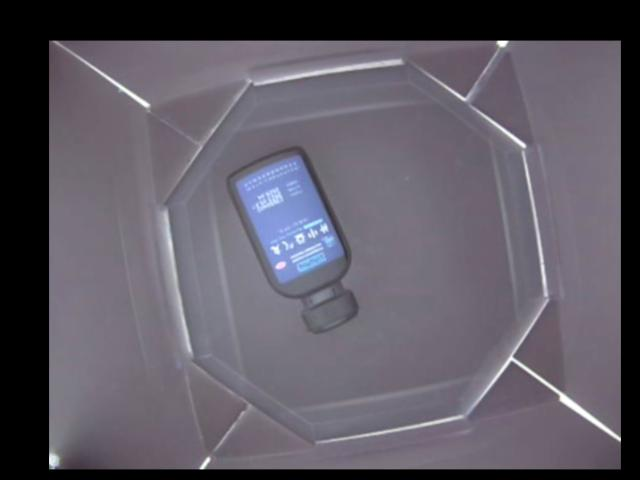Bottle: (223, 143, 361, 334)
